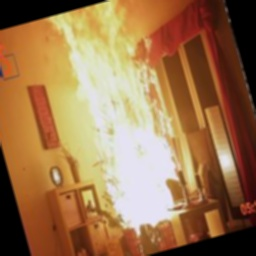fire: (34, 0, 209, 246)
